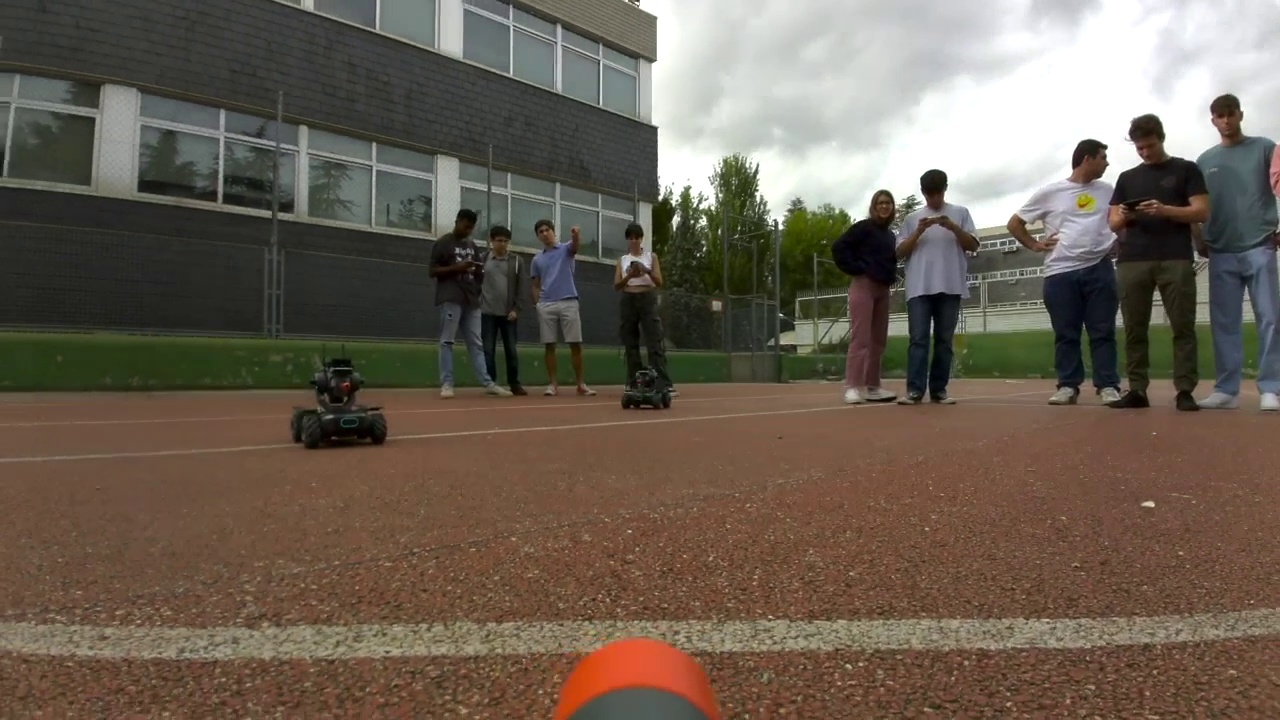robot: (292, 359, 386, 449), (624, 368, 672, 411)
